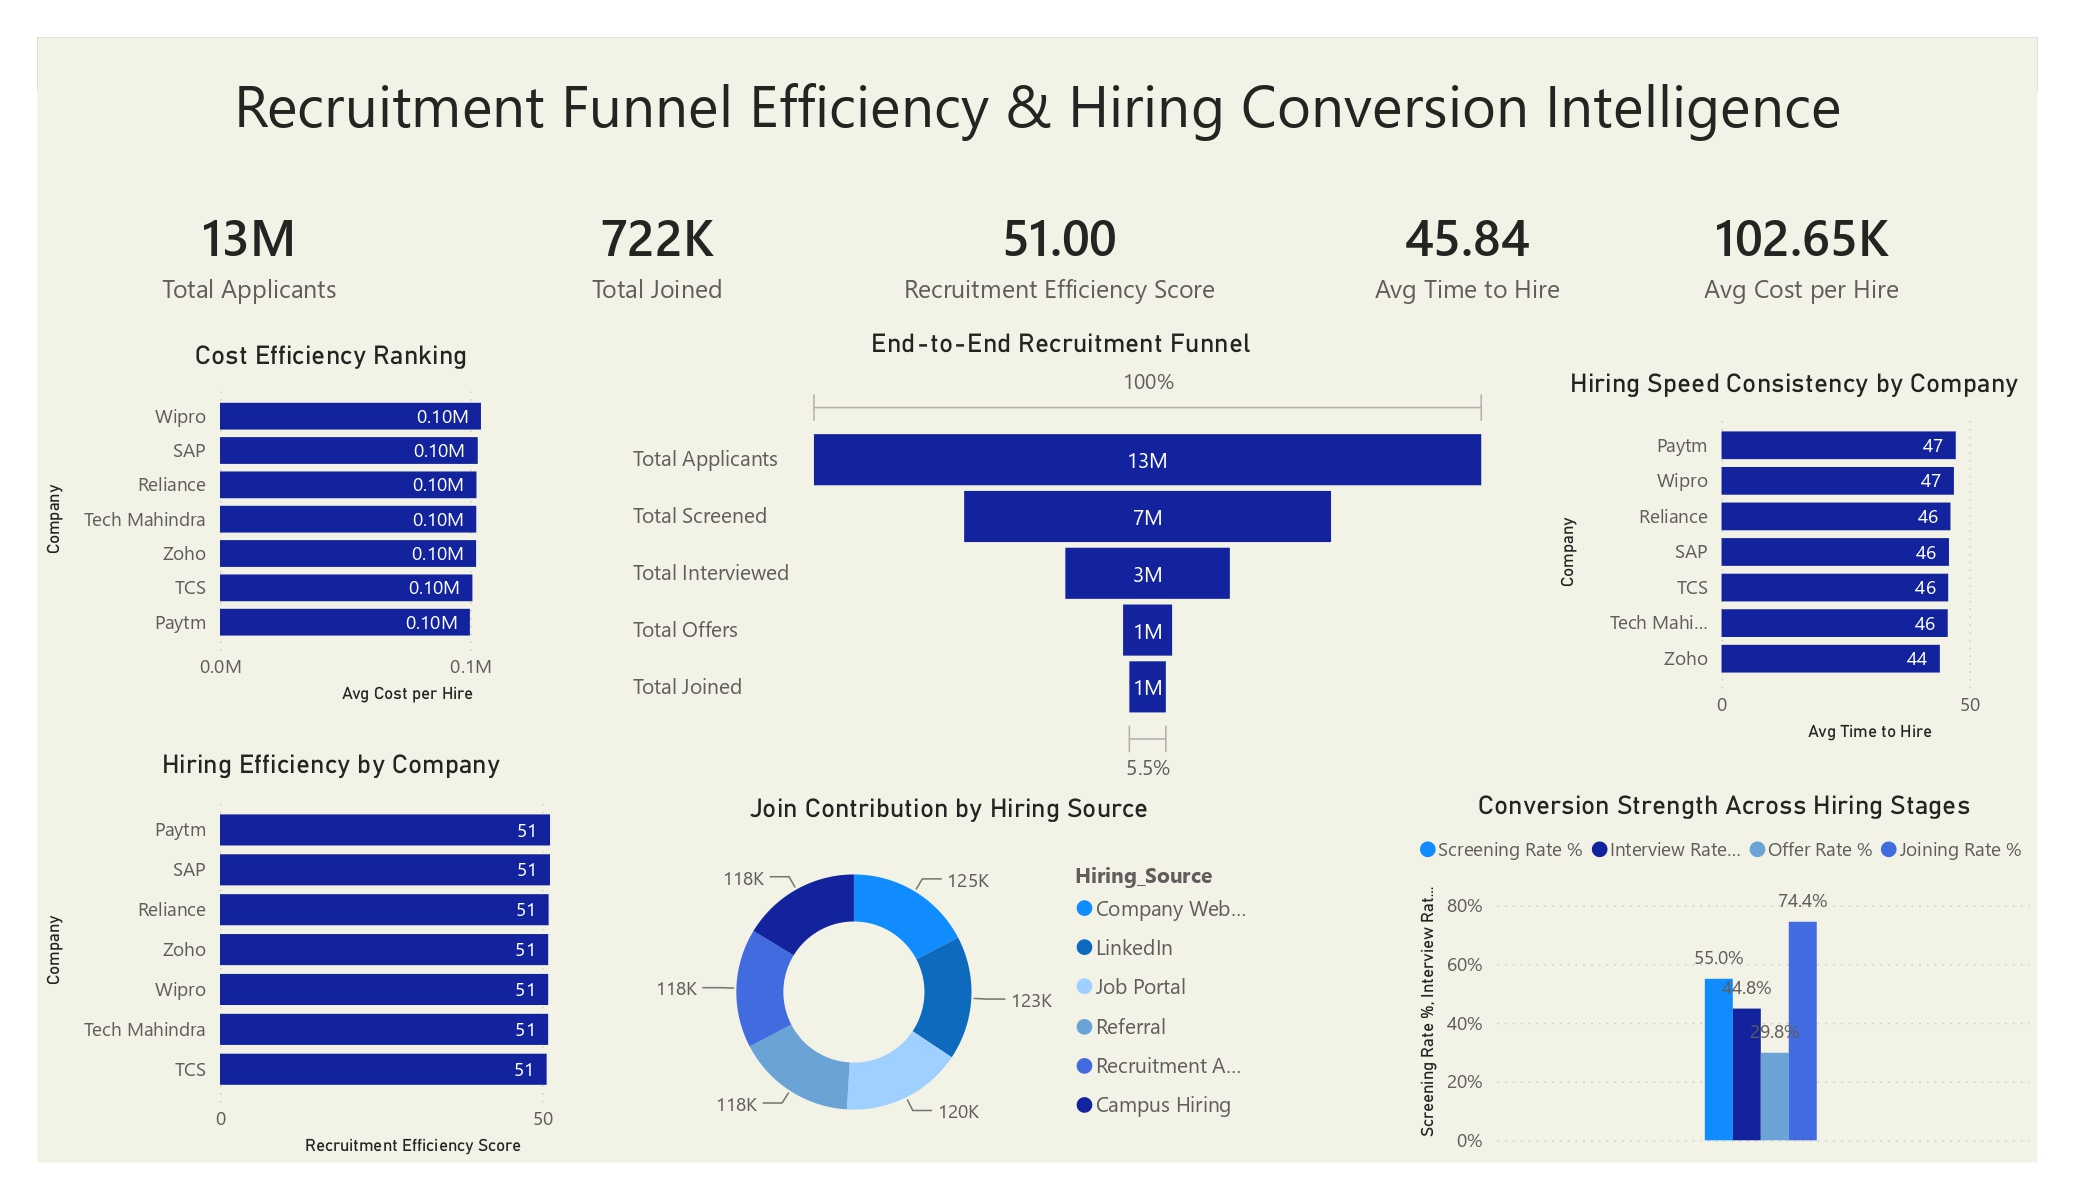

The dashboard page shown, as its layout file describes it:
{"tool":"powerbi","page":{"name":"Page 1","canvas":[1280,720],"ordinal":0},"visuals":[{"type":"cardVisual","fields":{"Data":["recruitment_funnel_realistic_dataset.Total Applicants"]},"box":[48,72.7,175.6,130.4],"z":0},{"type":"cardVisual","fields":{"Data":["recruitment_funnel_realistic_dataset.Total Joined"]},"box":[308.7,72.7,175.6,130.4],"z":1},{"type":"cardVisual","fields":{"Data":["recruitment_funnel_realistic_dataset.Recruitment Efficiency Score"]},"box":[517.3,72.7,274.4,130.4],"z":2},{"type":"cardVisual","fields":{"Data":["recruitment_funnel_realistic_dataset.Avg Time to Hire"]},"box":[822,72.7,186.6,130.4],"z":3},{"type":"cardVisual","fields":{"Data":["recruitment_funnel_realistic_dataset.Avg Cost per Hire"]},"box":[1031.9,72.7,194.9,130.4],"z":4},{"type":"funnel","title":"End-to-End Recruitment Funnel","fields":{"Y":["recruitment_funnel_realistic_dataset.Total Applicants","recruitment_funnel_realistic_dataset.Total Screened","recruitment_funnel_realistic_dataset.Total Interviewed","recruitment_funnel_realistic_dataset.Total Offers","recruitment_funnel_realistic_dataset.Total Joined"]},"box":[376,185.2,558.5,296.4],"z":5},{"type":"textbox","box":[0,12.3,1280.3,60.4],"z":10},{"type":"barChart","title":"Hiring Efficiency by Company","fields":{"Category":["recruitment_funnel_realistic_dataset.Company"],"Y":["recruitment_funnel_realistic_dataset.Recruitment Efficiency Score"]},"box":[0,454.8,376.4,265.4],"z":11},{"type":"donutChart","title":"Join Contribution by Hiring Source","fields":{"Category":["recruitment_funnel_realistic_dataset.Hiring_Source"],"Y":["recruitment_funnel_realistic_dataset.Total Joined"]},"box":[376.4,482.6,415,237.7],"z":12},{"type":"clusteredColumnChart","title":"Conversion Strength Across Hiring Stages","fields":{"Y":["recruitment_funnel_realistic_dataset.Screening Rate %","recruitment_funnel_realistic_dataset.Interview Rate %","recruitment_funnel_realistic_dataset.Offer Rate %","recruitment_funnel_realistic_dataset.Joining Rate %"]},"box":[879.5,481.4,400.5,238.9],"z":13},{"type":"barChart","title":"Hiring Speed Consistency by Company","fields":{"Category":["recruitment_funnel_realistic_dataset.Company"],"Y":["recruitment_funnel_realistic_dataset.Avg Time to Hire"]},"box":[968.8,211.1,311.3,243.7],"z":14},{"type":"barChart","title":"Cost Efficiency Ranking","fields":{"Category":["recruitment_funnel_realistic_dataset.Company"],"Y":["recruitment_funnel_realistic_dataset.Avg Cost per Hire"]},"box":[0,193,376.4,237.7],"z":15}]}

Visuals, with their boxes on the page's 1280x720 design canvas (x1, y1, x2, y2). These are canvas units, not pixel positions in the 2075x1200 screenshot, which may show the page scaled, cropped or inside an application window:
cardVisual - recruitment_funnel_realistic_dataset.Total Applicants: [left=48, top=73, right=224, bottom=203]
cardVisual - recruitment_funnel_realistic_dataset.Total Joined: [left=309, top=73, right=484, bottom=203]
cardVisual - recruitment_funnel_realistic_dataset.Recruitment Efficiency Score: [left=517, top=73, right=792, bottom=203]
cardVisual - recruitment_funnel_realistic_dataset.Avg Time to Hire: [left=822, top=73, right=1009, bottom=203]
cardVisual - recruitment_funnel_realistic_dataset.Avg Cost per Hire: [left=1032, top=73, right=1227, bottom=203]
"End-to-End Recruitment Funnel" funnel: [left=376, top=185, right=934, bottom=482]
textbox: [left=0, top=12, right=1280, bottom=73]
"Hiring Efficiency by Company" barChart: [left=0, top=455, right=376, bottom=720]
"Join Contribution by Hiring Source" donutChart: [left=376, top=483, right=791, bottom=720]
"Conversion Strength Across Hiring Stages" clusteredColumnChart: [left=880, top=481, right=1280, bottom=720]
"Hiring Speed Consistency by Company" barChart: [left=969, top=211, right=1280, bottom=455]
"Cost Efficiency Ranking" barChart: [left=0, top=193, right=376, bottom=431]
